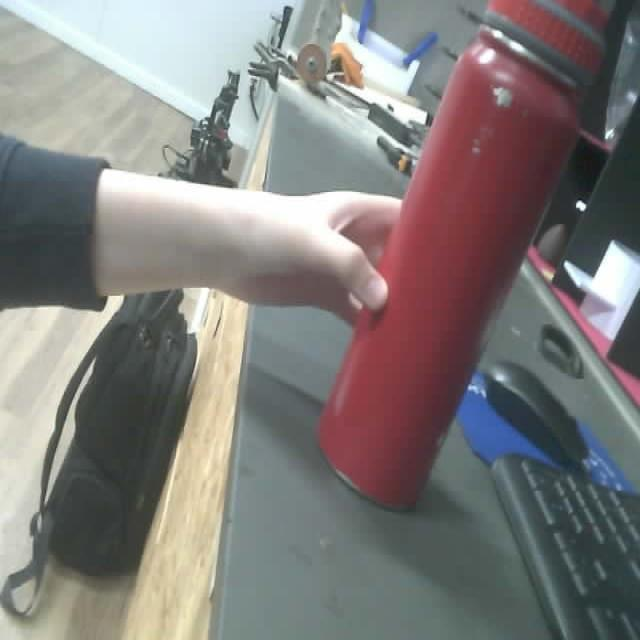water bottle: (312, 0, 635, 513)
